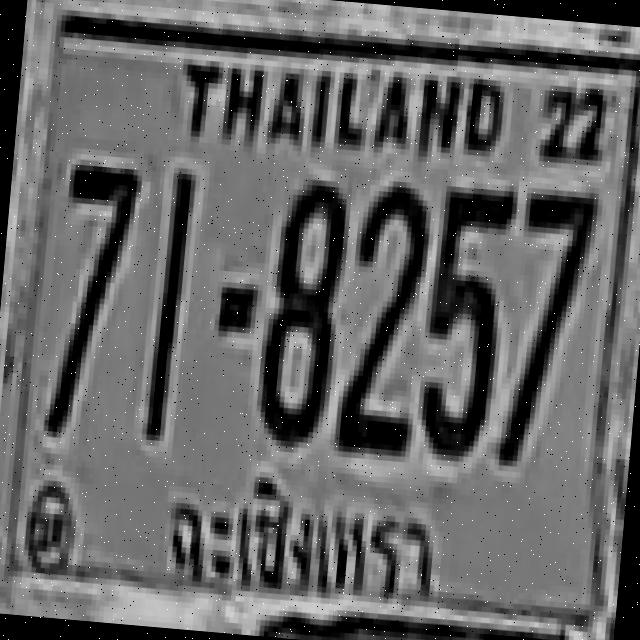1: (146, 170, 194, 406)
2: (338, 180, 430, 427), (338, 178, 428, 408)
5: (414, 182, 513, 456), (420, 180, 513, 388), (424, 182, 514, 346)
7: (41, 158, 136, 436), (503, 184, 594, 419), (49, 157, 138, 366), (506, 185, 594, 386), (508, 184, 594, 359), (53, 158, 138, 328)
8: (254, 174, 348, 447)
Chachoengsao: (148, 466, 452, 615)
